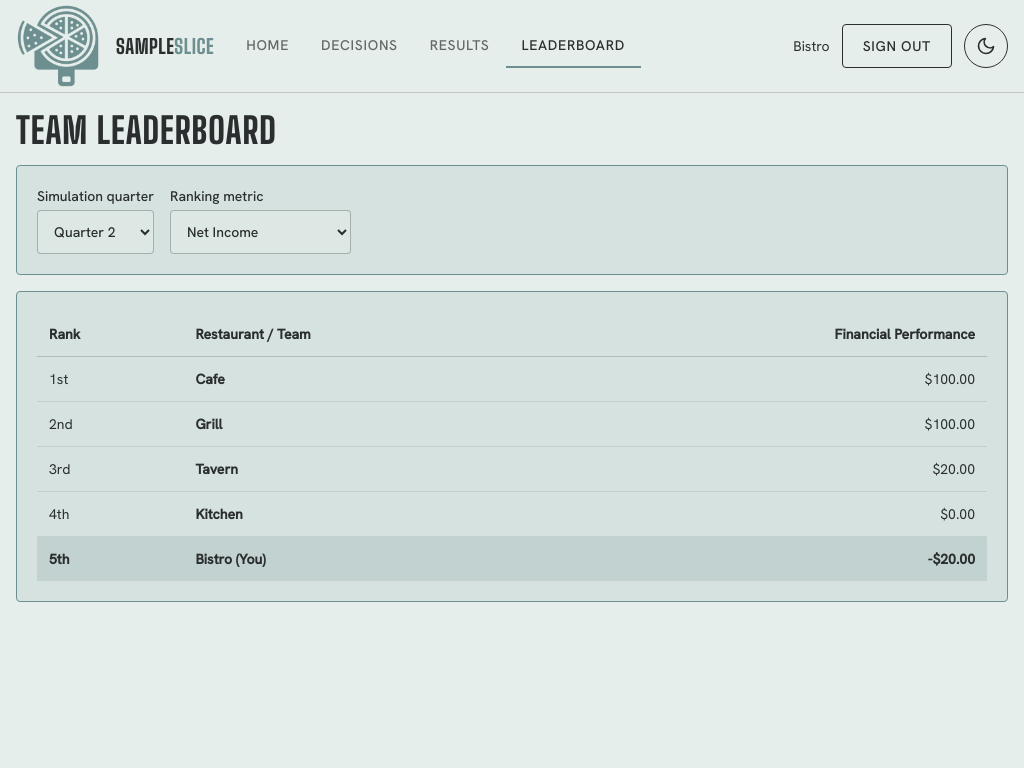
Test: defaults to the latest available quarter and restores both selections after navigation with fresh data
The width and height of the screenshot is (1024, 768).
Expected: the table named "Quarter 2 team leaderboard" is shown, [37,312,987,581]
Select "Operating Profit" in the dropdown labelled "Ranking metric" at (260, 232), box [170,210,351,254]
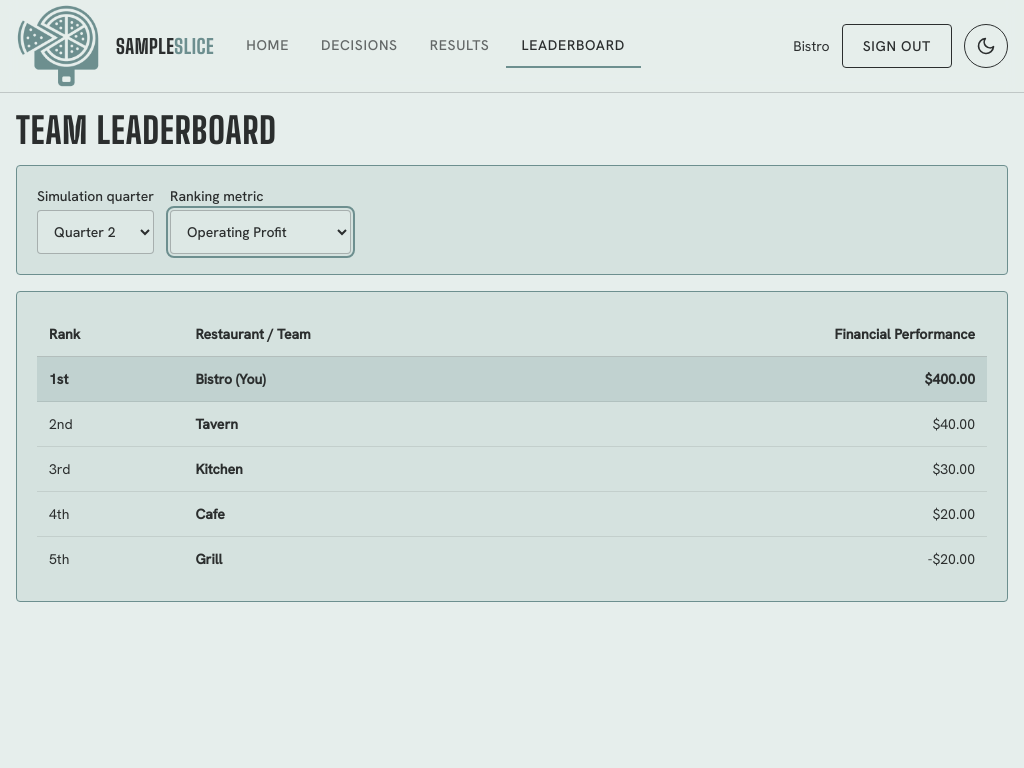
Click the link "Home" at (268, 45), box [246,36,289,54]
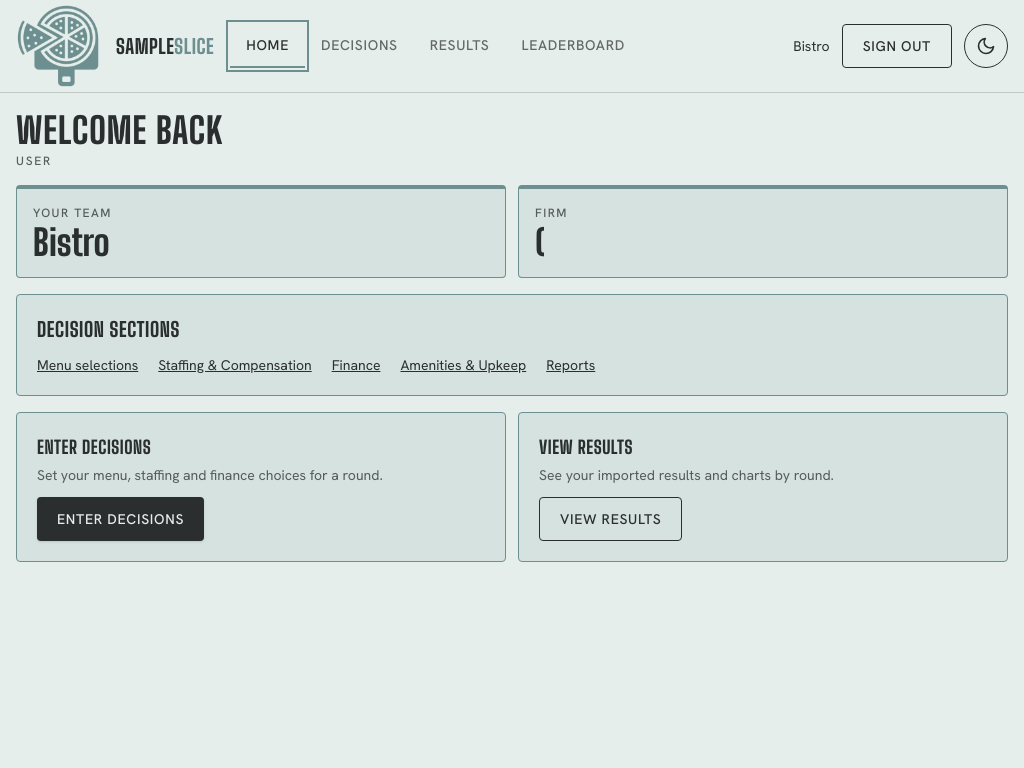
Click the link "Leaderboard" at (573, 45), box [522,36,625,54]
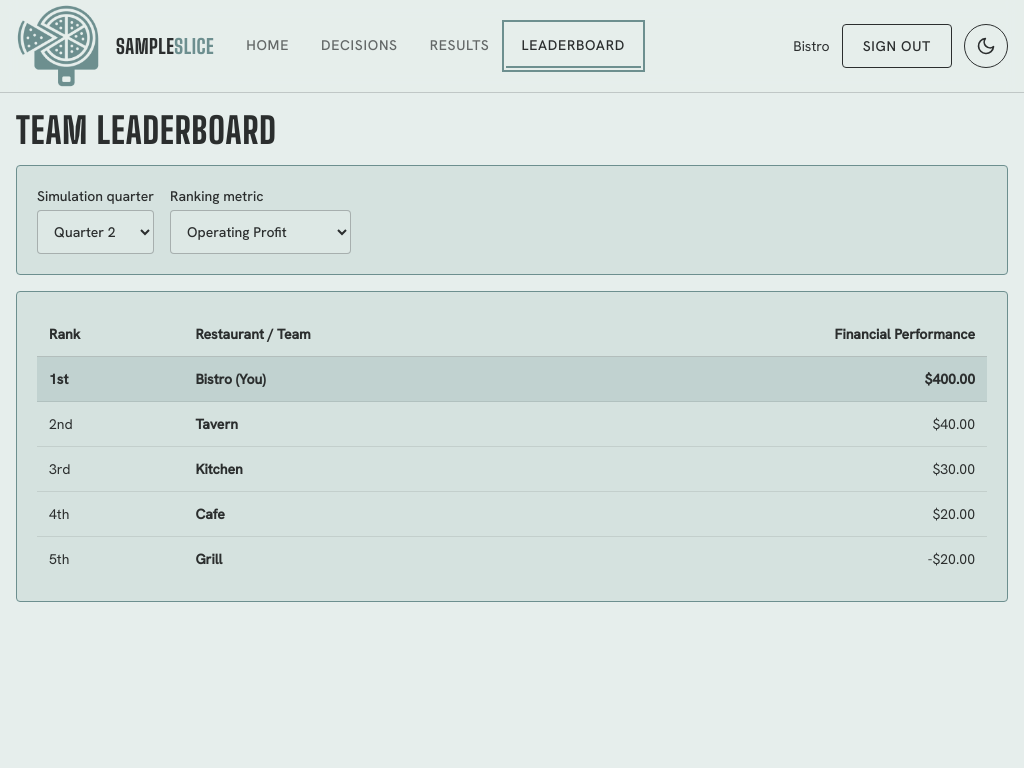
Expected: the table named "Quarter 2 team leaderboard" is shown, [37,312,987,581]
Expected: the dropdown labelled "Simulation quarter" shows "Quarter 2", [37,210,154,254]
Expected: the dropdown labelled "Ranking metric" shows "Operating Profit", [170,210,351,254]
Click the link "Home" at (268, 45), box [246,36,289,54]
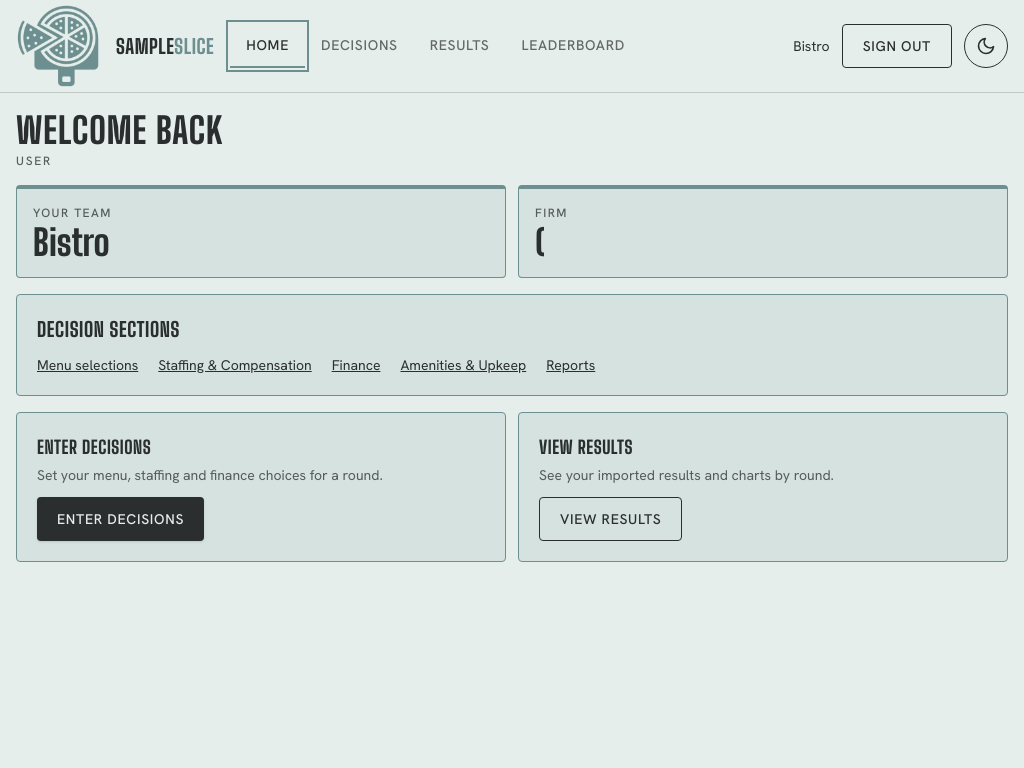
Click the link "Leaderboard" at (573, 45), box [522,36,625,54]
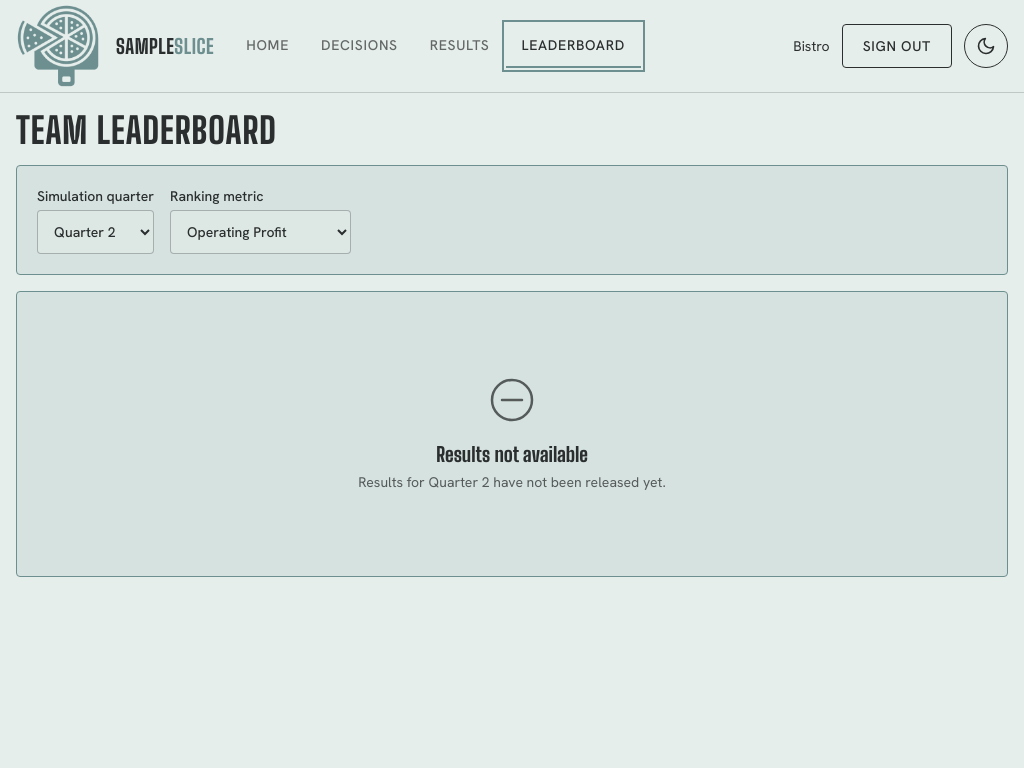
Expected: the text "Results for Quarter 2 have not been released yet." is shown, [358,472,666,492]
Expected: the dropdown labelled "Simulation quarter" shows "Quarter 2", [37,210,154,254]
Expected: the dropdown labelled "Ranking metric" shows "Operating Profit", [170,210,351,254]
